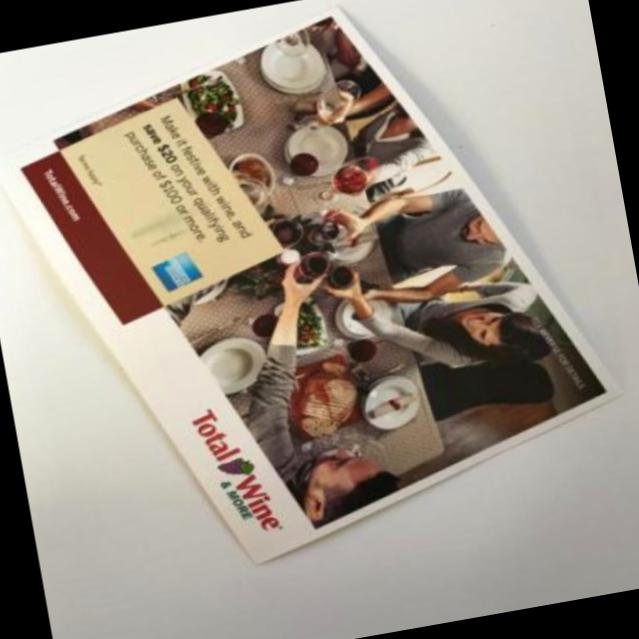cardboard paper: (10, 8, 618, 559)
